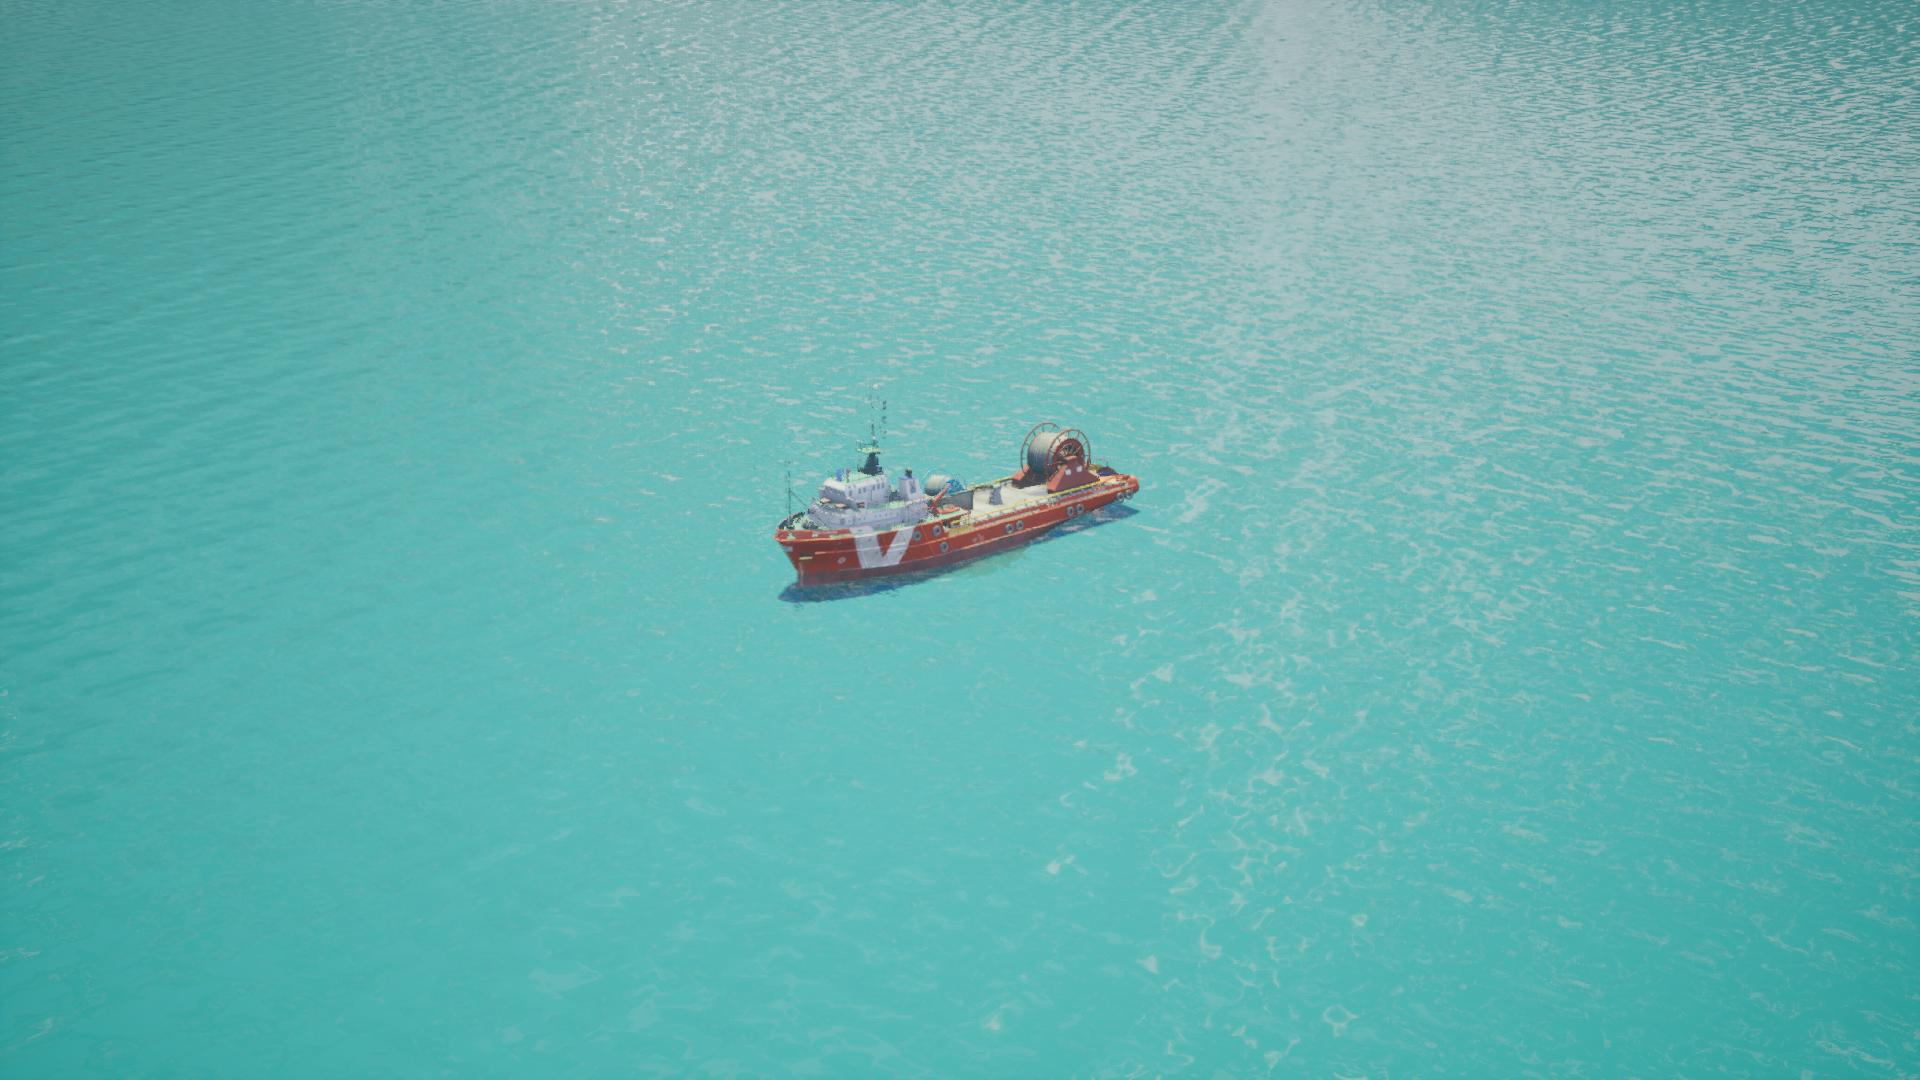Tug Boat: (767, 429, 1146, 603)
